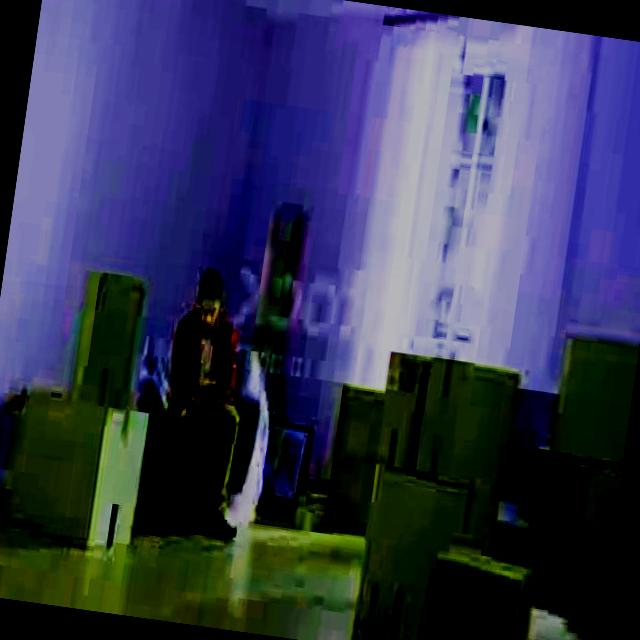Box: (6, 396, 148, 546), (352, 473, 449, 640), (416, 350, 527, 486), (546, 328, 639, 462), (520, 448, 621, 542), (419, 556, 530, 640), (71, 280, 147, 394), (374, 360, 426, 456)
